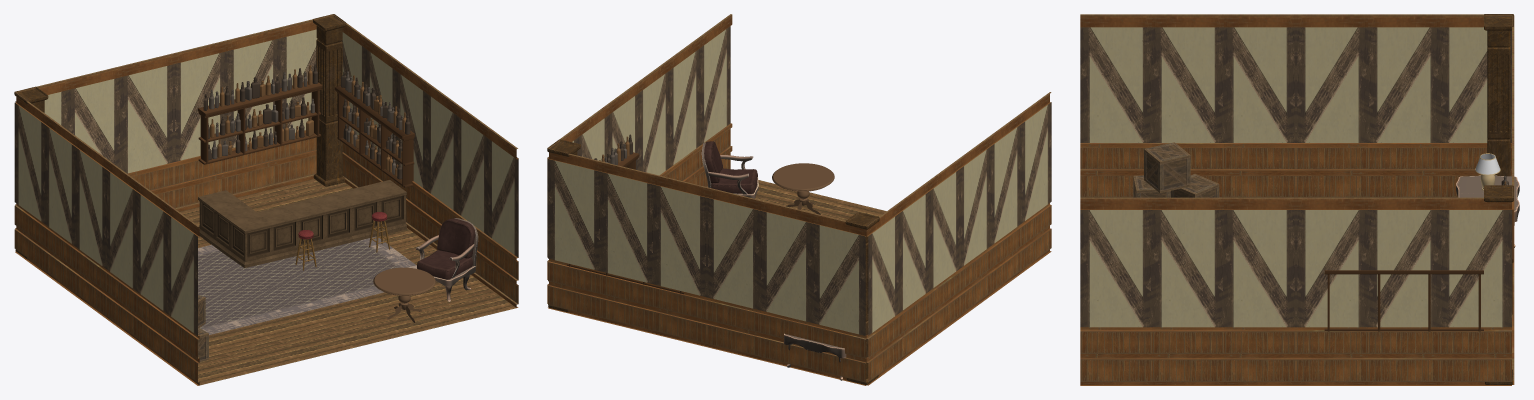
The model's file is Stylized Tabern.fbx.
3 views of the same model, side by side, from view 1: azimuth 30°, elevation 25°; view 2: azimuth 150°, elevation 25°; view 3: azimuth 270°, elevation 25° (orthographic). The views are drawn at different scales.
Parts seen in each view (by area): view 1: Plane.005, Estanteria.002, Plane.004, Column.002, seat_backrest_mesh.002, leg_003_mesh.001, SIlla.002, SIlla.001; view 2: Plane.005, seat_backrest_mesh.002, leg_003_mesh.001, Column.002, Estanteria.002, seat_backrest_mesh.001; view 3: Plane.005, Column.002, Estanteria.002, seat_backrest_mesh.001, NurbsPath.
Boxes of the visible parts, <box> form: Plane.005: <box>14,15,518,385</box>; Estanteria.002: <box>198,64,414,187</box>; Plane.004: <box>198,180,406,267</box>; Column.002: <box>14,14,346,259</box>; seat_backrest_mesh.002: <box>416,218,478,301</box>; leg_003_mesh.001: <box>373,267,435,322</box>; SIlla.002: <box>369,212,389,252</box>; SIlla.001: <box>295,230,316,270</box>; Plane.005: <box>547,14,1051,385</box>; seat_backrest_mesh.002: <box>701,141,758,198</box>; leg_003_mesh.001: <box>772,163,834,214</box>; Column.002: <box>547,139,879,385</box>; Estanteria.002: <box>567,134,684,294</box>; seat_backrest_mesh.001: <box>784,333,846,380</box>; Plane.005: <box>1080,14,1514,385</box>; Column.002: <box>1484,14,1513,384</box>; Estanteria.002: <box>1324,175,1513,331</box>; seat_backrest_mesh.001: <box>1456,175,1519,247</box>; NurbsPath: <box>1475,153,1500,190</box>.
Bounding box in the file's own units: 1216 × 581 × 1222.
